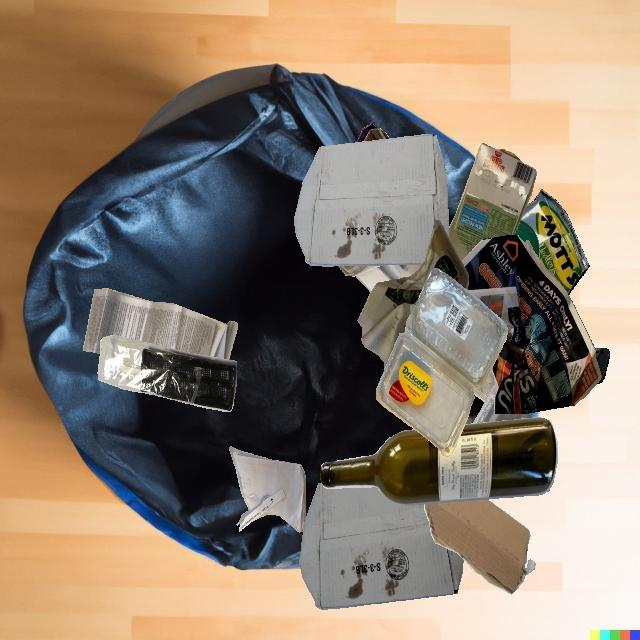cardboard: (299, 483, 463, 609), (294, 134, 449, 266), (424, 499, 535, 595), (448, 143, 537, 261), (356, 122, 390, 142)
glass: (320, 417, 557, 505), (465, 394, 485, 424), (339, 265, 382, 276)
paper: (461, 235, 602, 414), (358, 220, 468, 369), (83, 289, 238, 360), (229, 446, 306, 532), (355, 264, 422, 292), (472, 367, 496, 402)
plastic: (376, 268, 508, 456), (97, 335, 237, 412), (473, 382, 530, 424), (514, 220, 539, 257)
trash: (520, 189, 589, 296)
